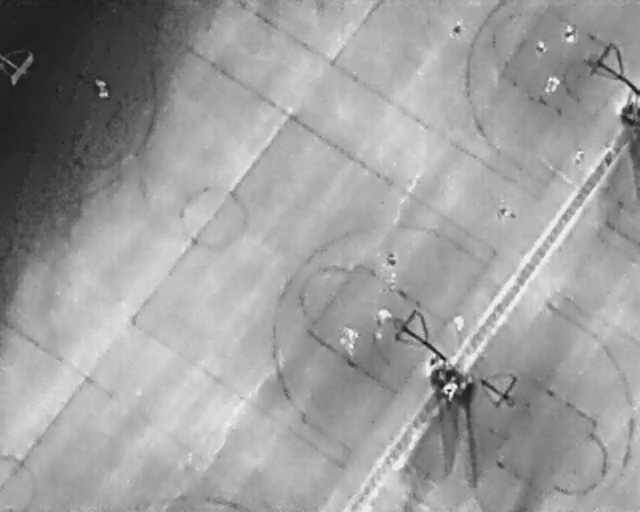Person: (337, 324, 362, 359), (422, 349, 446, 374), (438, 379, 461, 403), (542, 72, 563, 97), (570, 145, 589, 167), (498, 203, 519, 222), (532, 38, 549, 57), (375, 308, 392, 327), (563, 23, 577, 45), (449, 21, 465, 40), (96, 78, 110, 99), (453, 315, 465, 332), (385, 251, 396, 268)
